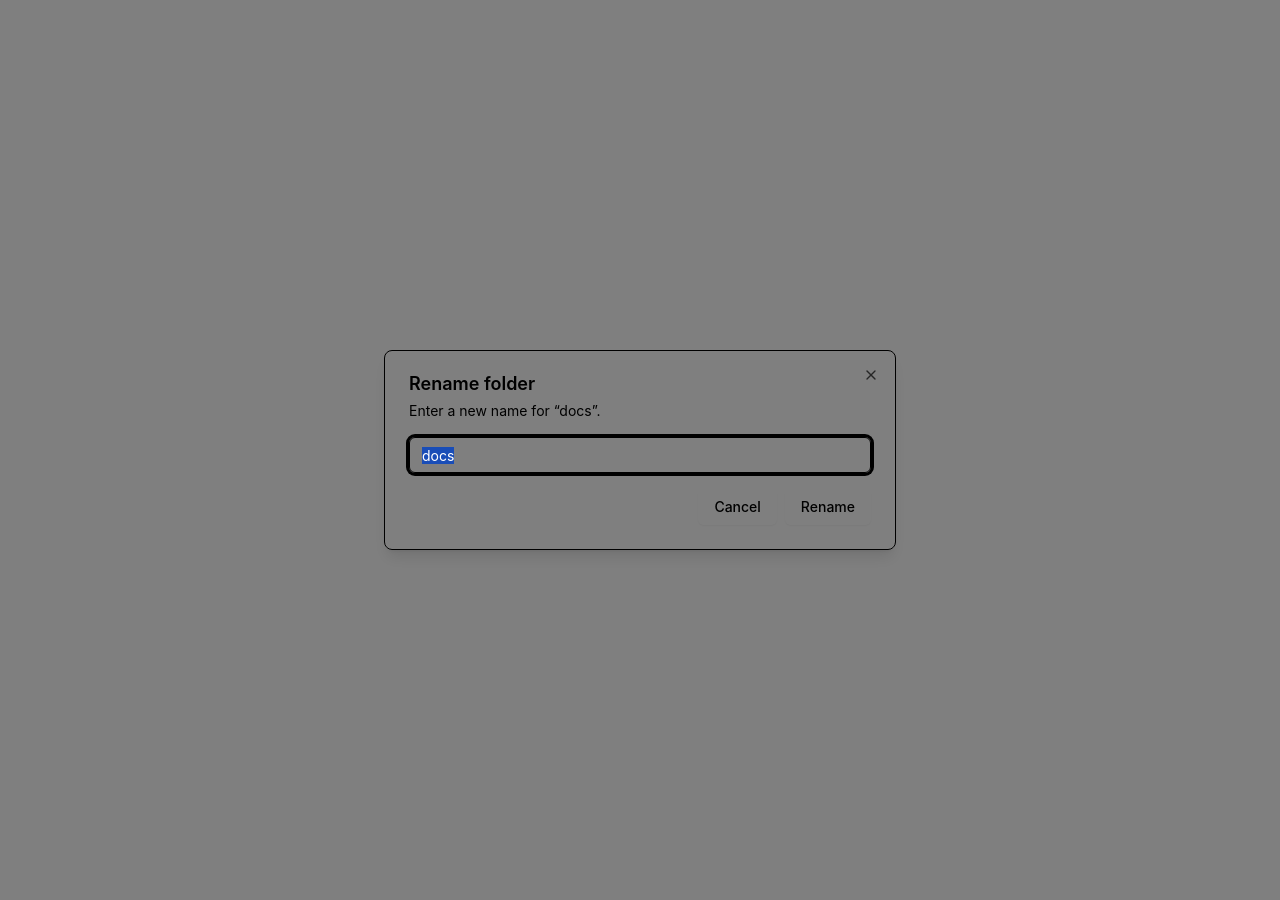
RenameDialog › invalid names show an error and aren't sent
Replace the text in the field named "New name" with "a/b" at (640, 455), box [409,437,871,473]
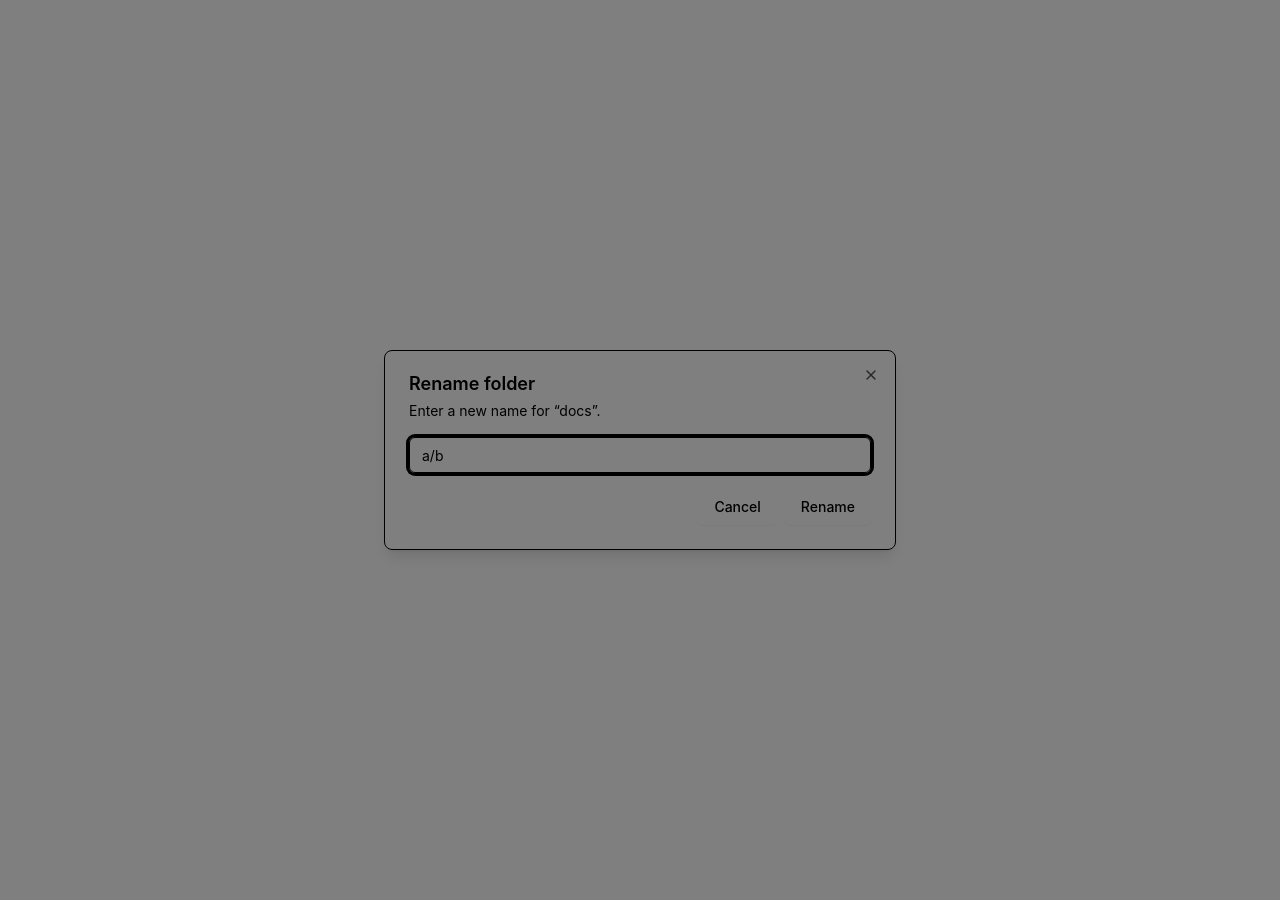
Click the button "Rename" at (828, 507), box [785,489,871,525]
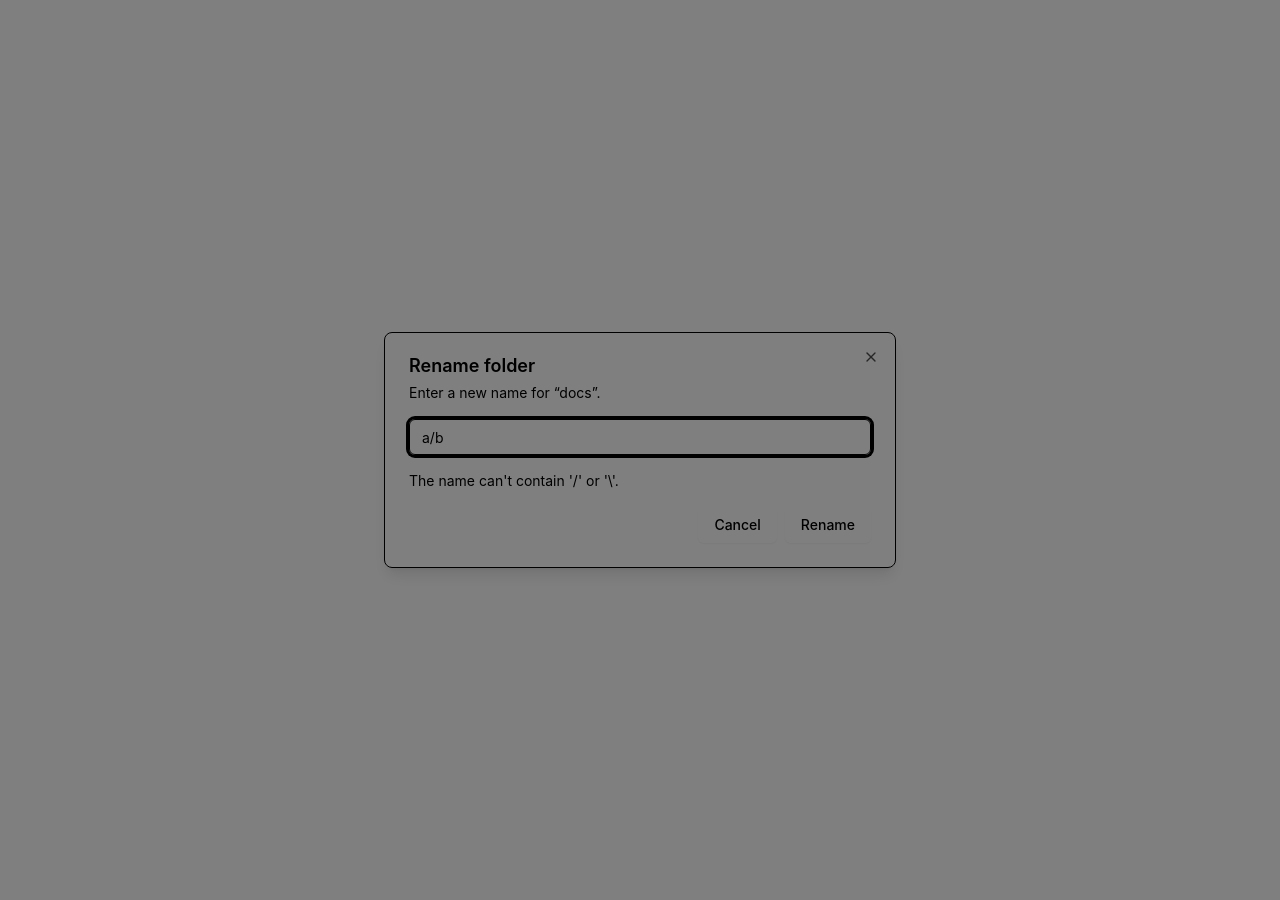
Now the message shows "/", box [409,472,619,489]
Clear the field named "New name" at (640, 437), box [409,419,871,455]
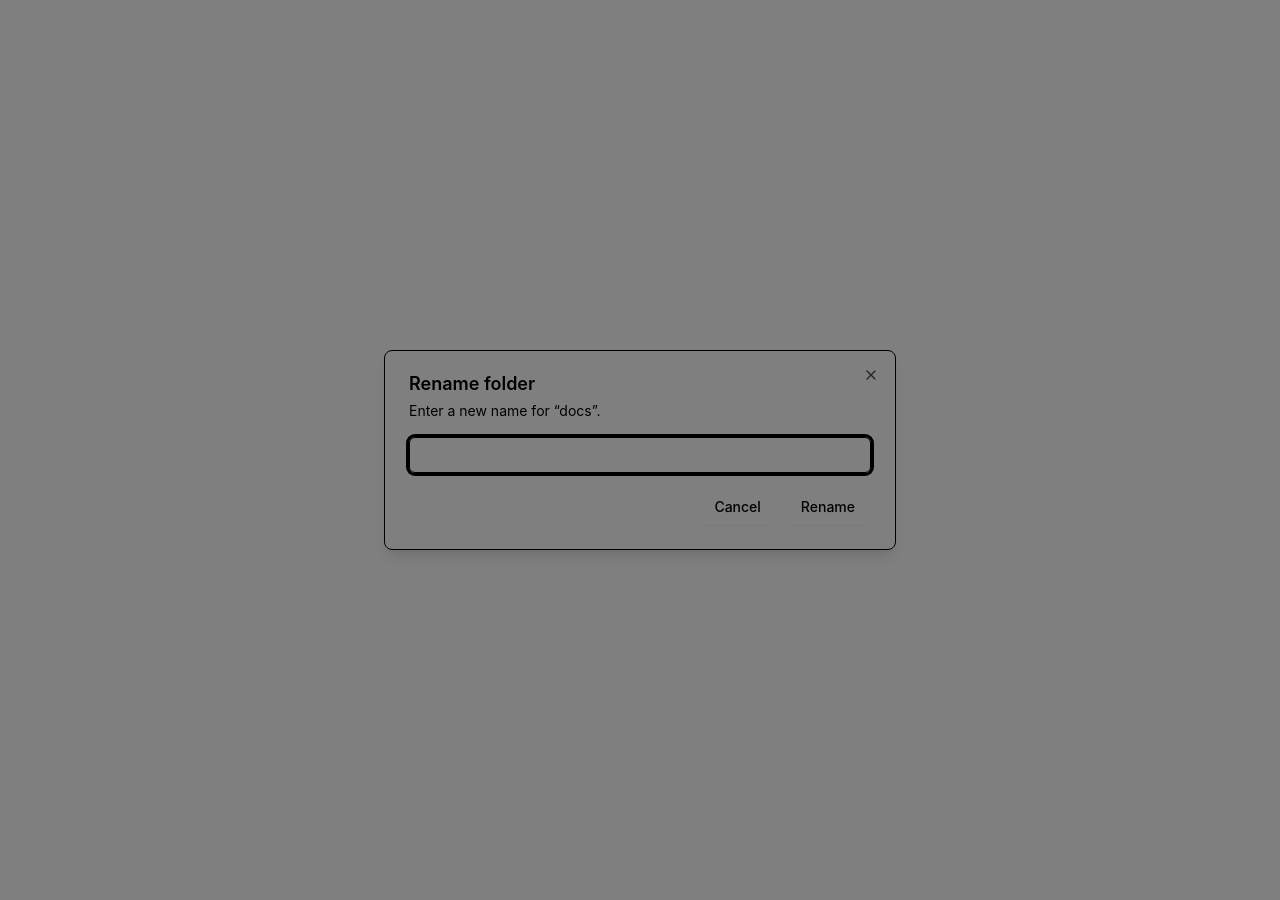
Click the button "Rename" at (828, 507), box [785,489,871,525]
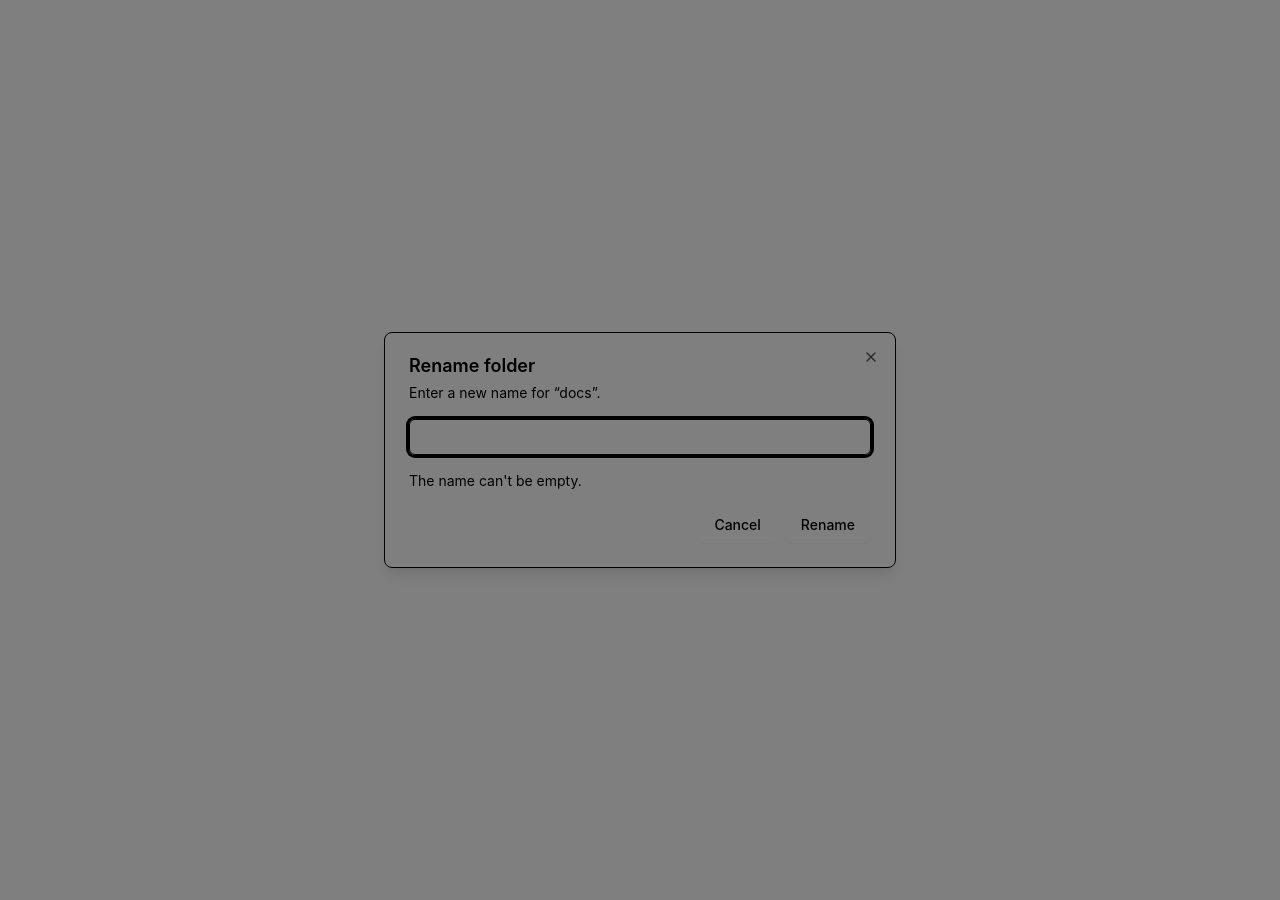
Now the message shows "empty", box [409,472,582,489]
